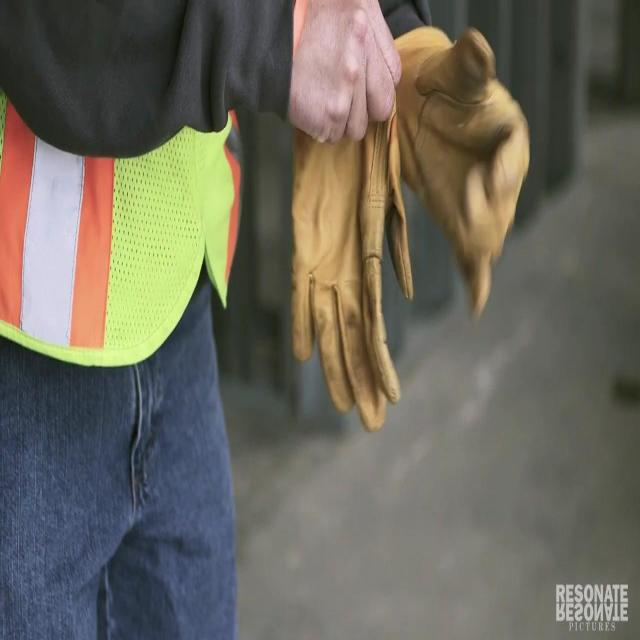Vest: (2, 89, 244, 368)
